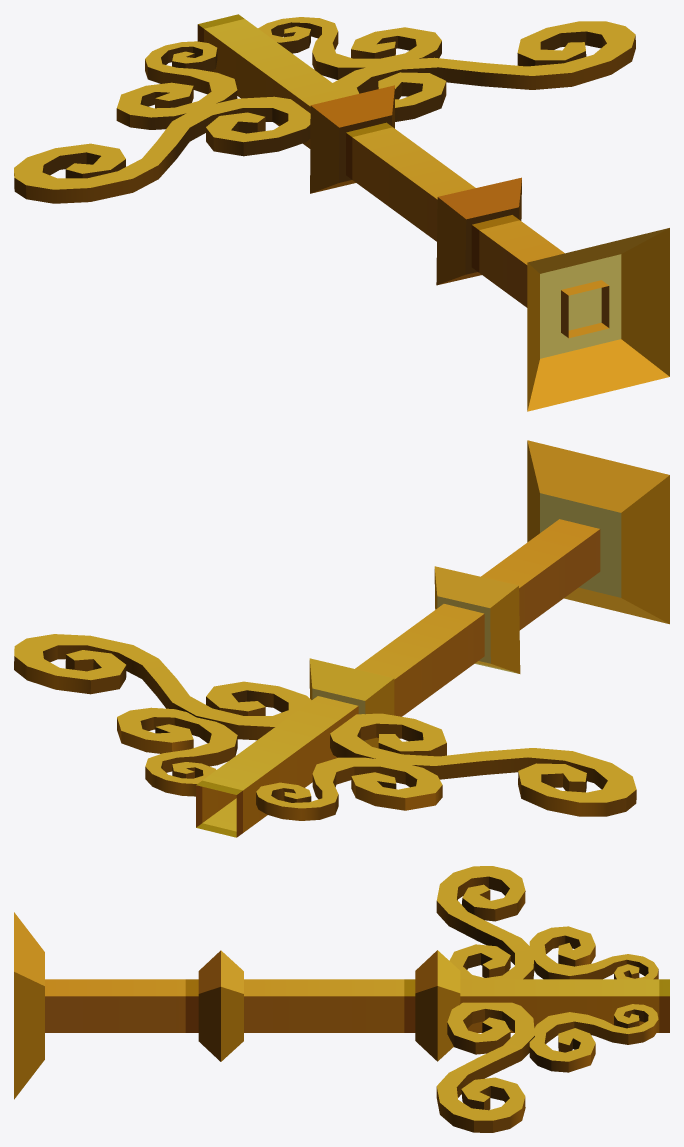
File: HolidayCandleabraGold.fbx
3 views of the same model, one above another, from view 1: azimuth 30°, elevation 25°; view 2: azimuth 150°, elevation 25°; view 3: azimuth 270°, elevation 25° (orthographic). The views are drawn at different scales.
Visible parts, largest first — view 1: HolidayCandleabraGold; view 2: HolidayCandleabraGold; view 3: HolidayCandleabraGold.
Boxes of the visible parts, x1,y1,x2,y2 form: HolidayCandleabraGold: [14, 14, 669, 411]; HolidayCandleabraGold: [14, 440, 669, 837]; HolidayCandleabraGold: [14, 866, 669, 1132].
Bounding box in the file's own units: 132 × 30.79 × 143.
